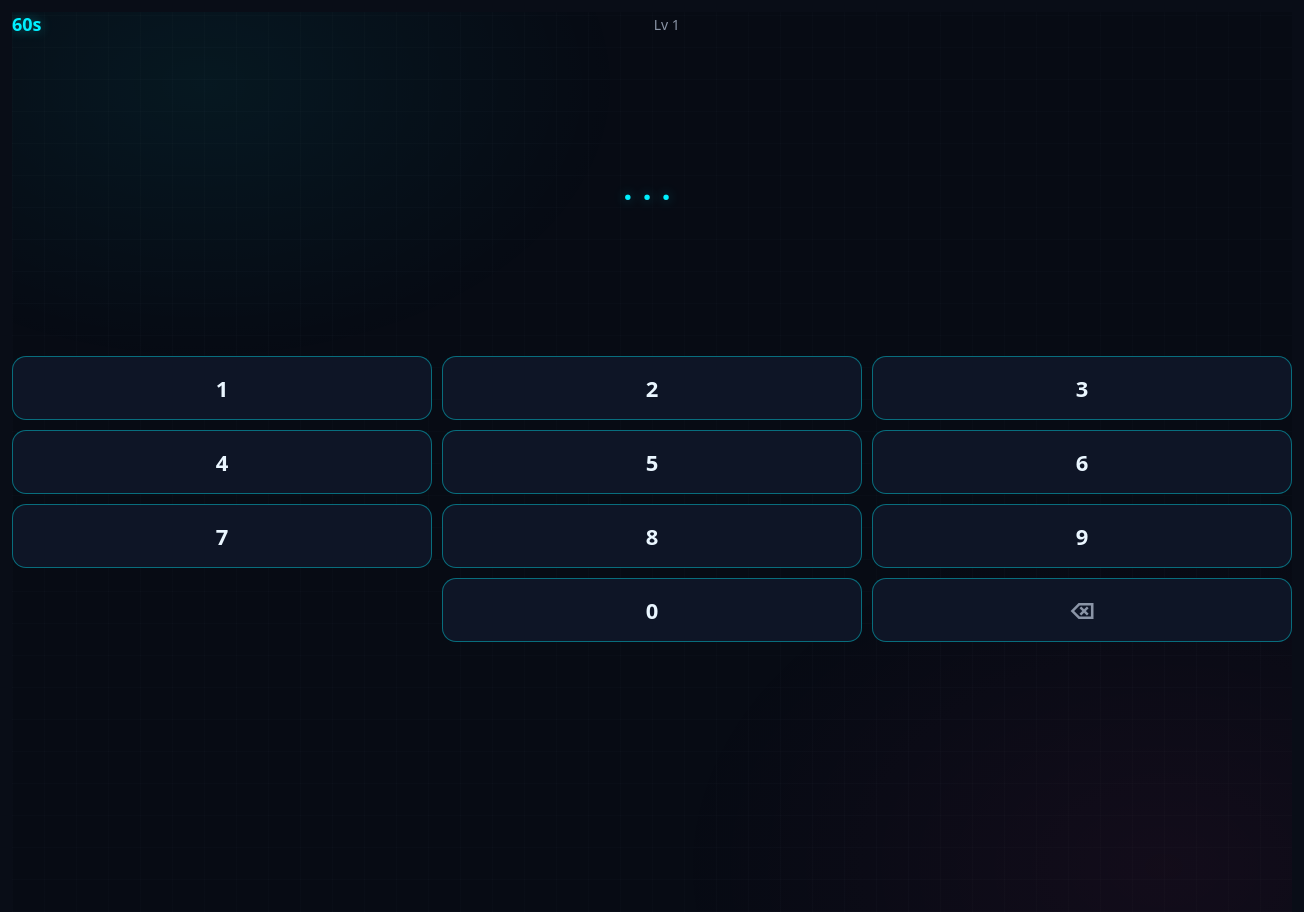
Test: backspace removes the last typed digit
Click the button "0": (652,610) [442,578,862,642]
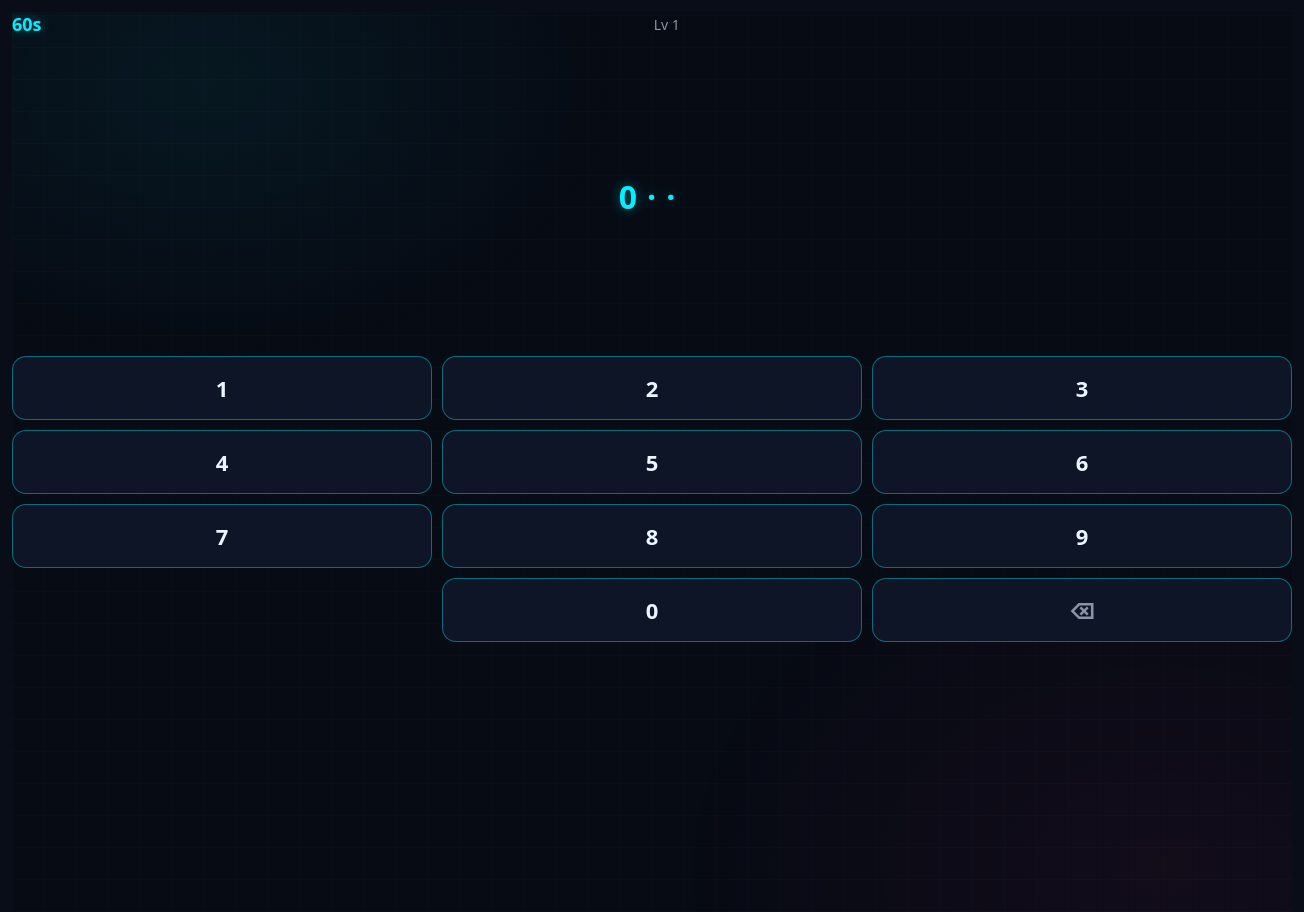
Click the button named "Backspace": (1082,610) [872,578,1292,642]
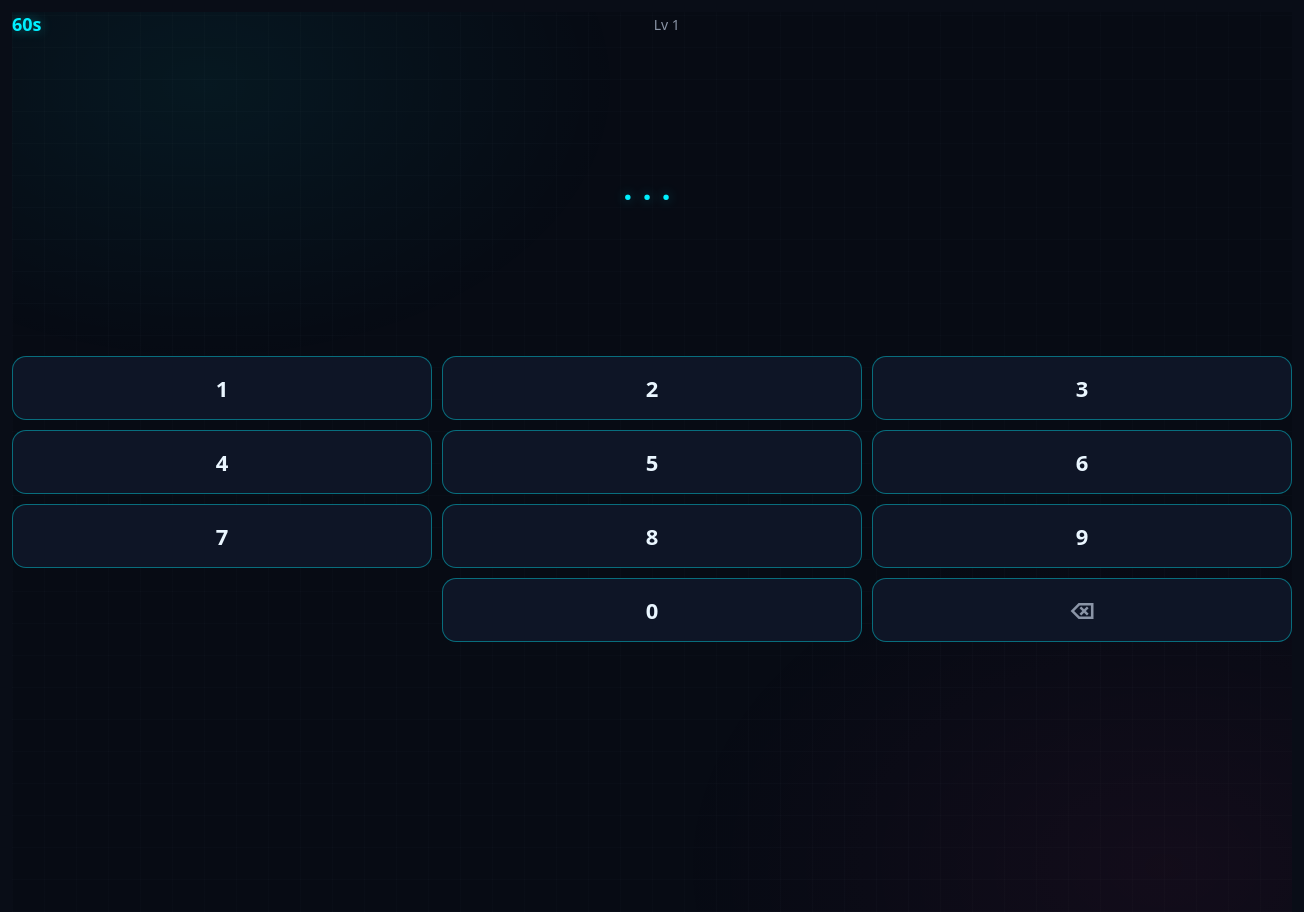
Result: the text with class "digit-span__entry" reads "···" at [623,174,681,218]
